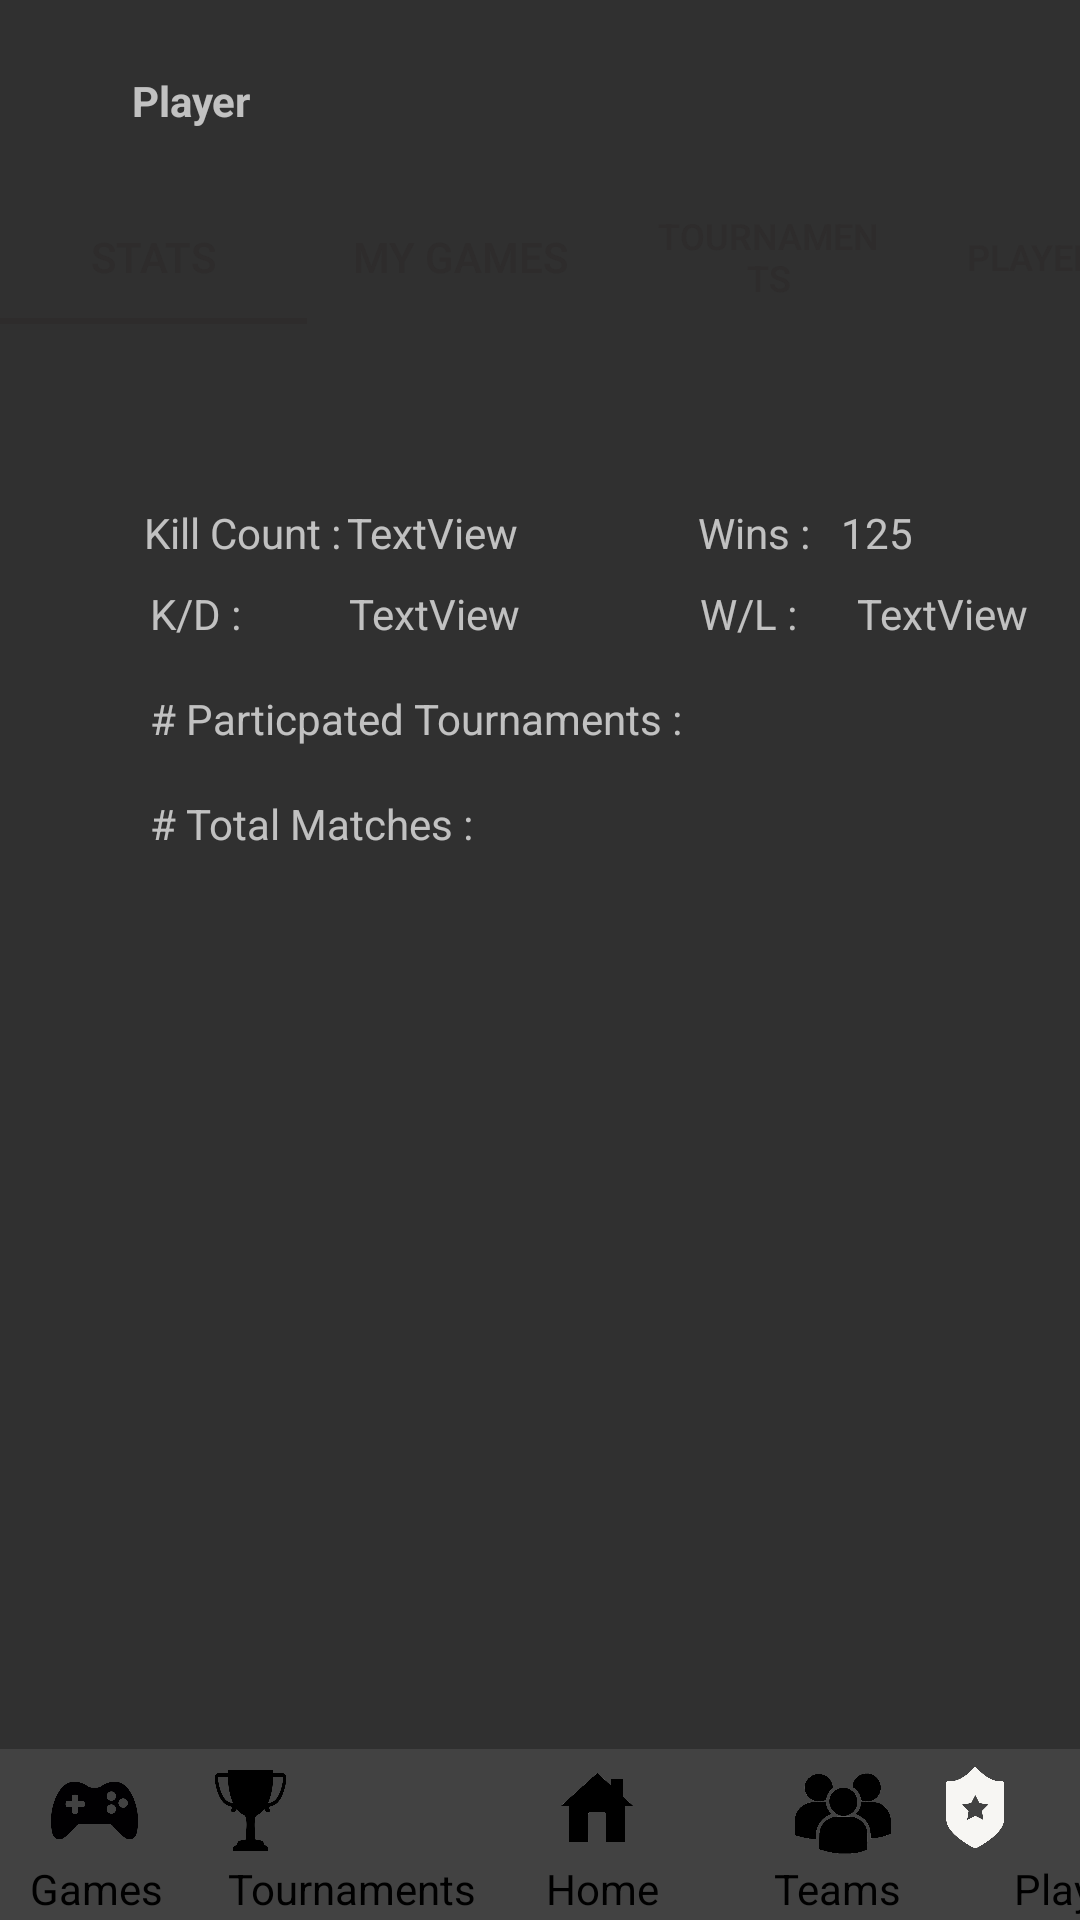

Where icons sit on this 1080 × 1920 app screen, as (x1, y1, x2, y2):
console: (51, 1782, 138, 1839)
cup: (215, 1770, 286, 1851)
rankwhite: (946, 1767, 1004, 1848)
